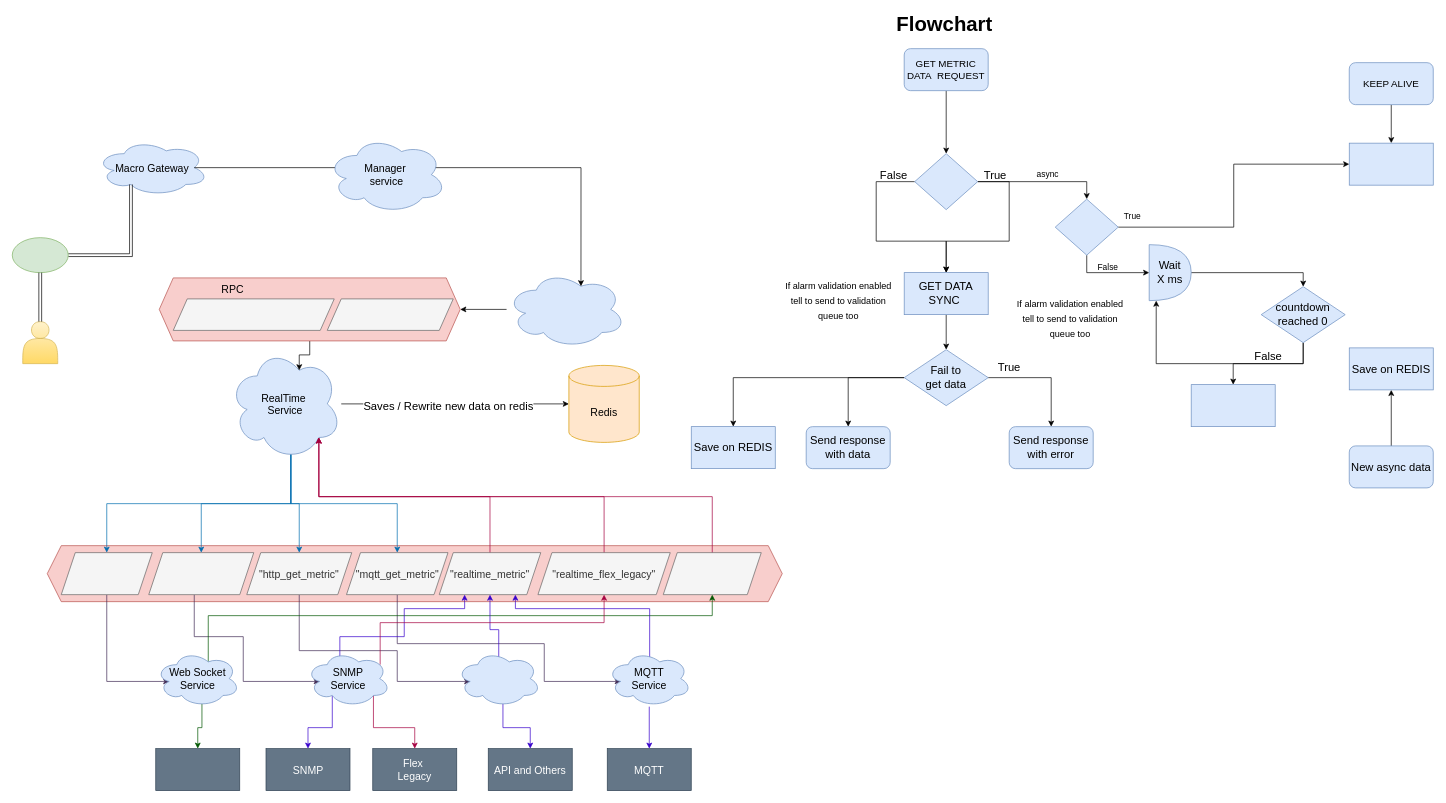
Some shapes in this 1446 by 803 pixel diagram are drawn without their labels. Here are the shapes that lost their labels. From the top down, the box of each, then its label:
(914, 153, 978, 210): Keep Alive?
(1349, 142, 1433, 185): Reset countdown
(1055, 198, 1118, 255): Already alive?
(12, 237, 68, 273): Web Page
(173, 298, 334, 330): "realtime_get_{protocol}_data"
(327, 298, 453, 330): "realtime_keepalive"
(506, 270, 626, 348): RealTime Visualizer Service
(1190, 384, 1275, 427): Get Data ASYNC
(61, 552, 152, 595): "ws_get_metric"
(148, 552, 254, 595): "snmp_get_metric"
(663, 552, 761, 595): "realtime_flex"
(456, 650, 541, 707): HTTP Service
(155, 748, 240, 791): FLEX
